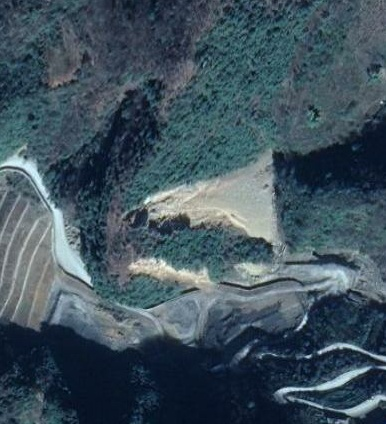slope: (126, 146, 286, 292)
